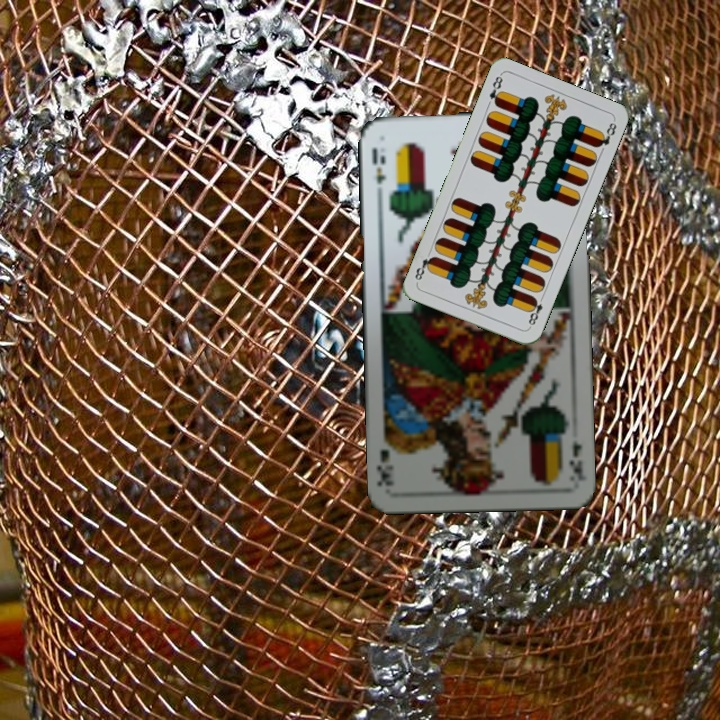E8: (524, 292, 547, 330), (485, 71, 506, 109)
EK: (565, 436, 587, 483), (367, 143, 389, 187)
